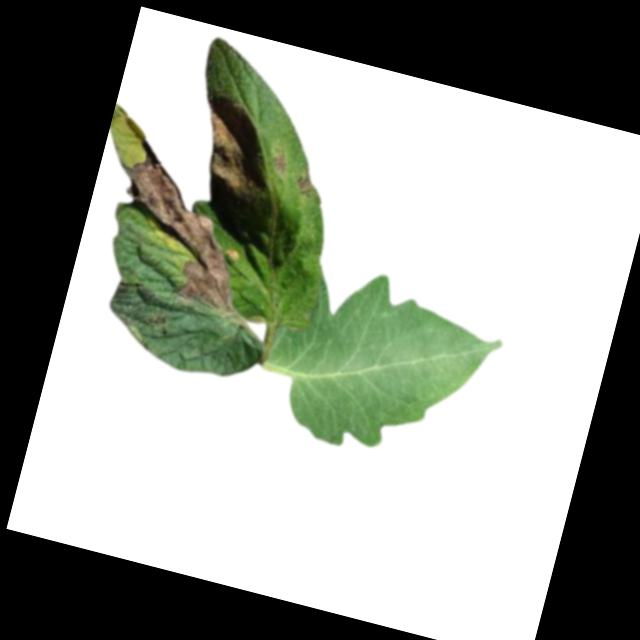Late_blight: (91, 135, 270, 317), (184, 92, 277, 206), (291, 170, 319, 198), (272, 145, 294, 178)
